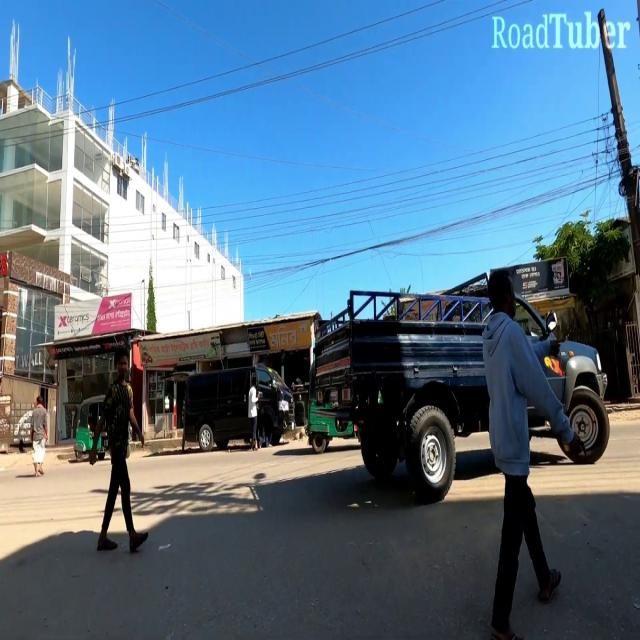black: (179, 366, 299, 451)
